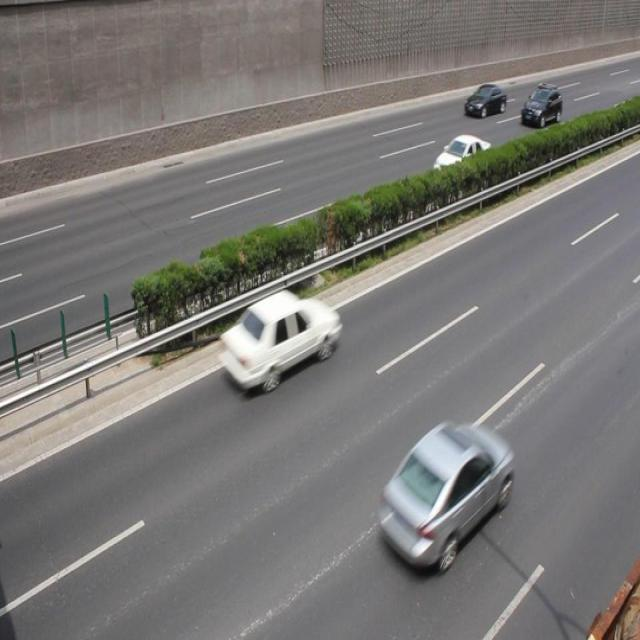car: (374, 422, 511, 572), (214, 290, 338, 394), (429, 135, 492, 193), (519, 84, 562, 128), (463, 82, 506, 120)
